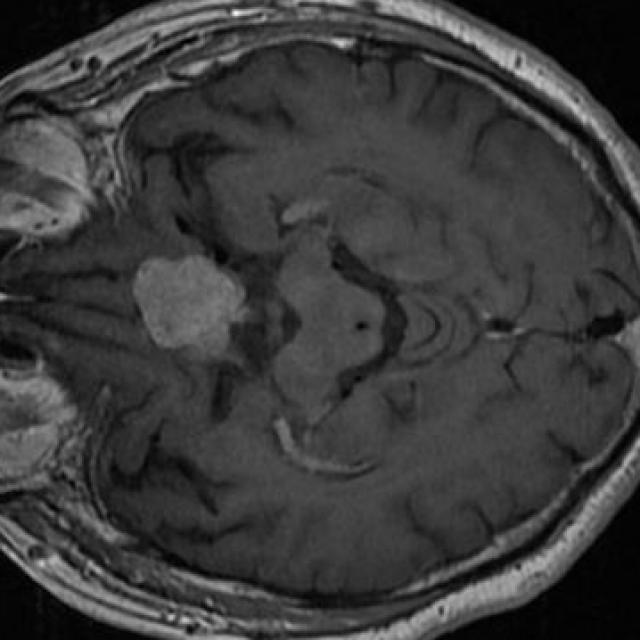pituitary: (134, 258, 244, 351)
